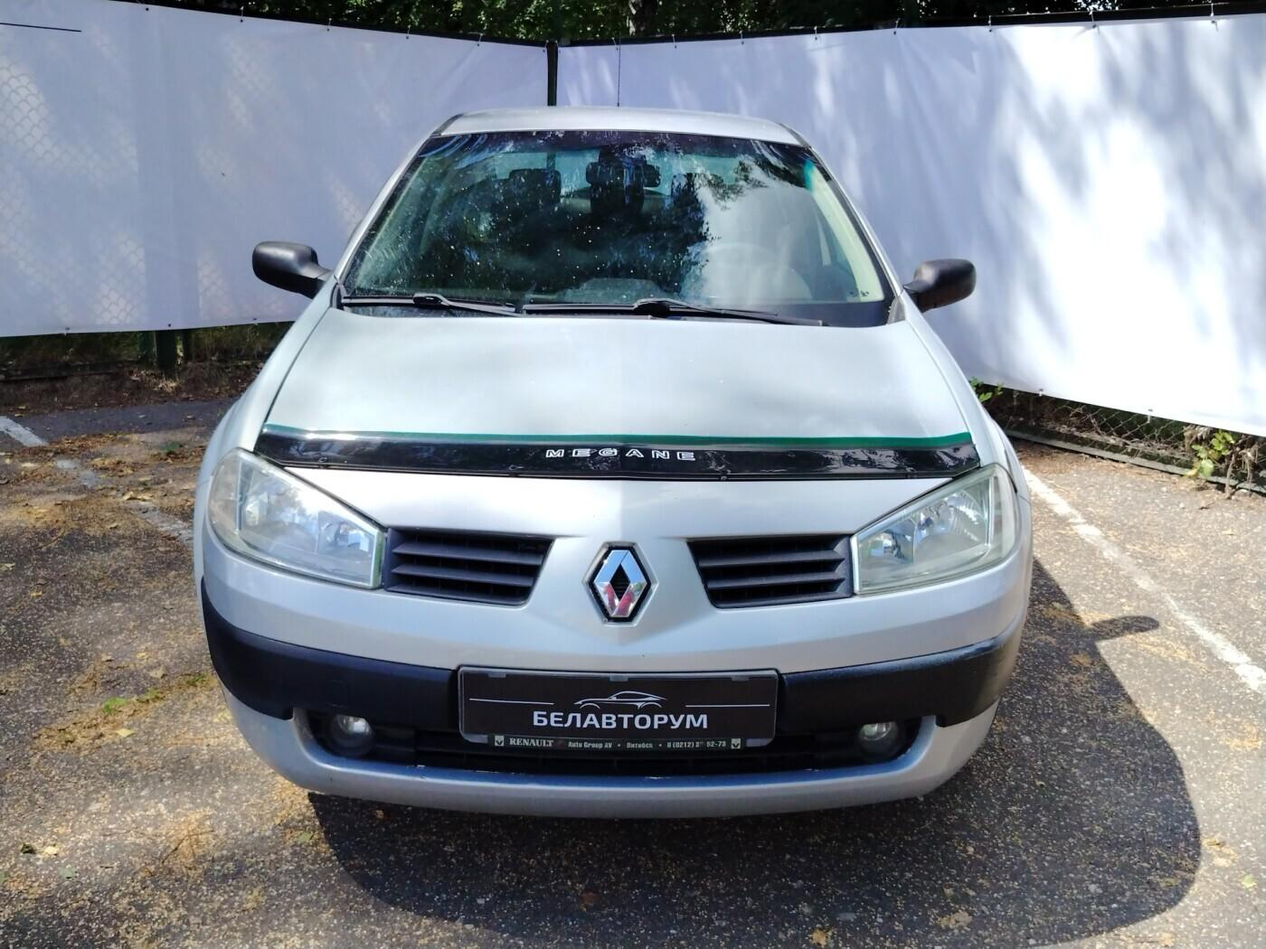Megane_2002-2006: (187, 97, 1033, 829)
